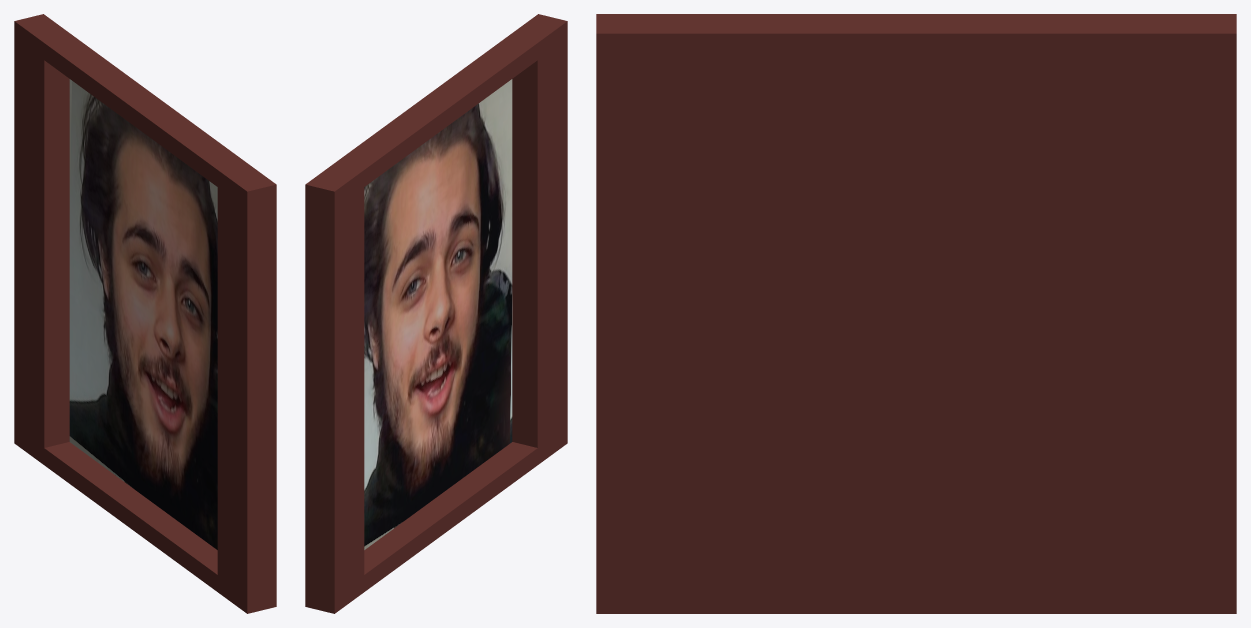
File: Portrait7.fbx
The picture shows the model from 3 angles, left to right: view 1: azimuth 30°, elevation 25°; view 2: azimuth 150°, elevation 25°; view 3: azimuth 270°, elevation 25°; orthographic projection. The views are drawn at different scales.
Parts seen in each view (by area): view 1: Cube.103; view 2: Cube.103; view 3: Cube.103.
Part boxes in pixels (x1,y1,x2,y2): Cube.103: (14, 14, 276, 613); Cube.103: (305, 14, 567, 613); Cube.103: (596, 14, 1236, 613).
Size of the model in its own units: 23.46 by 324 by 324.
